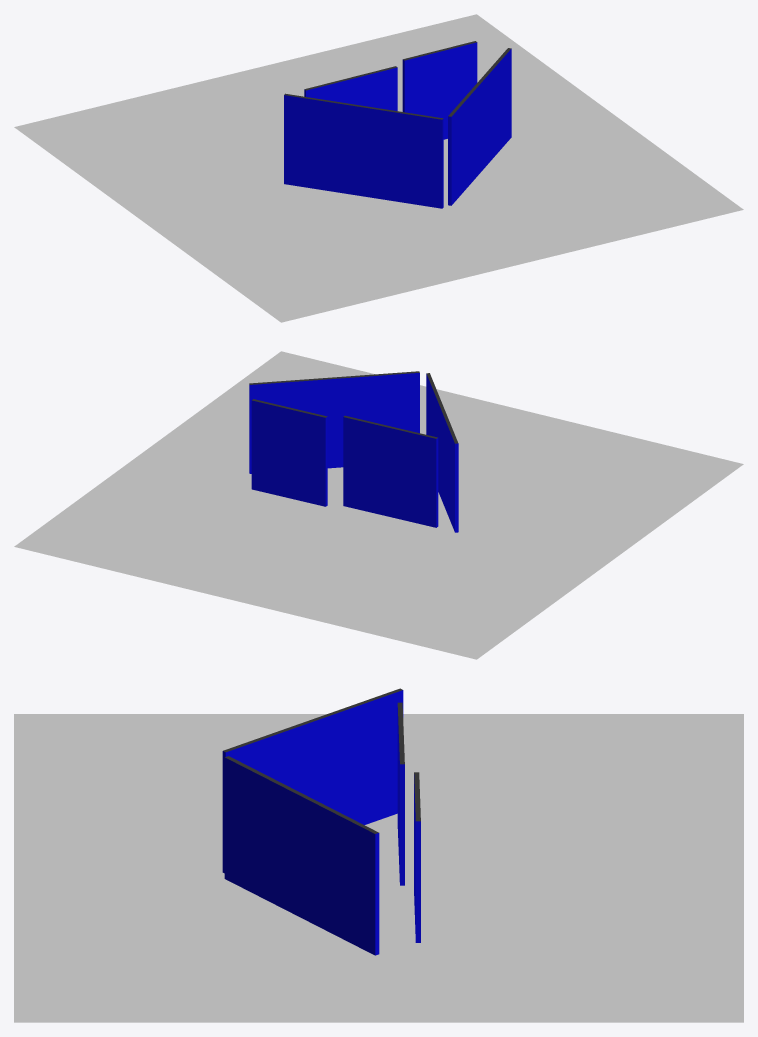
The model's file is foo.obj.
3 views of the same model, one above another, from view 1: azimuth 30°, elevation 25°; view 2: azimuth 150°, elevation 25°; view 3: azimuth 270°, elevation 25° (orthographic). The views are drawn at different scales.
Bounding box in the file's own units: 1.11 × 0.2032 × 1.11.
